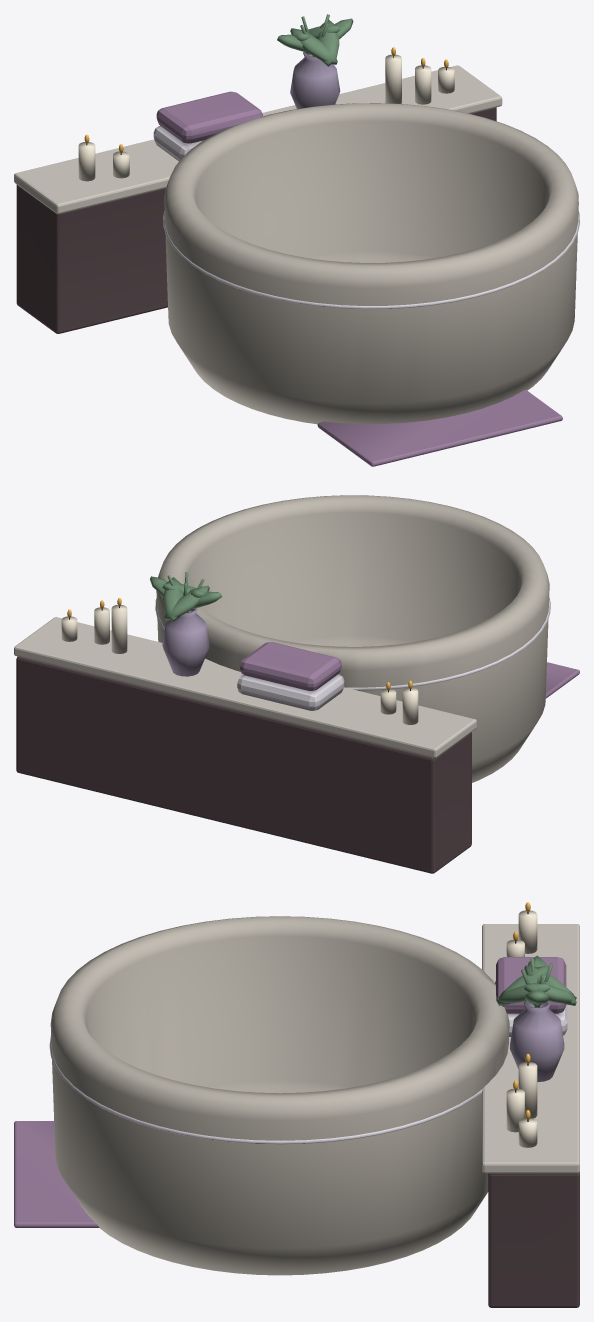
File: soakingTub.glb
The picture shows the model from 3 angles, top to bottom: view 1: azimuth 30°, elevation 25°; view 2: azimuth 150°, elevation 25°; view 3: azimuth 270°, elevation 25°; orthographic projection. The views are drawn at different scales.
Parts seen in each view (by area): view 1: body; view 2: body; view 3: body.
Part boxes in pixels (<box>): body: <box>14,14,579,466</box>; body: <box>14,495,579,873</box>; body: <box>14,902,579,1307</box>.
Size of the model in its own units: 1.86 by 0.9225 by 1.85.
